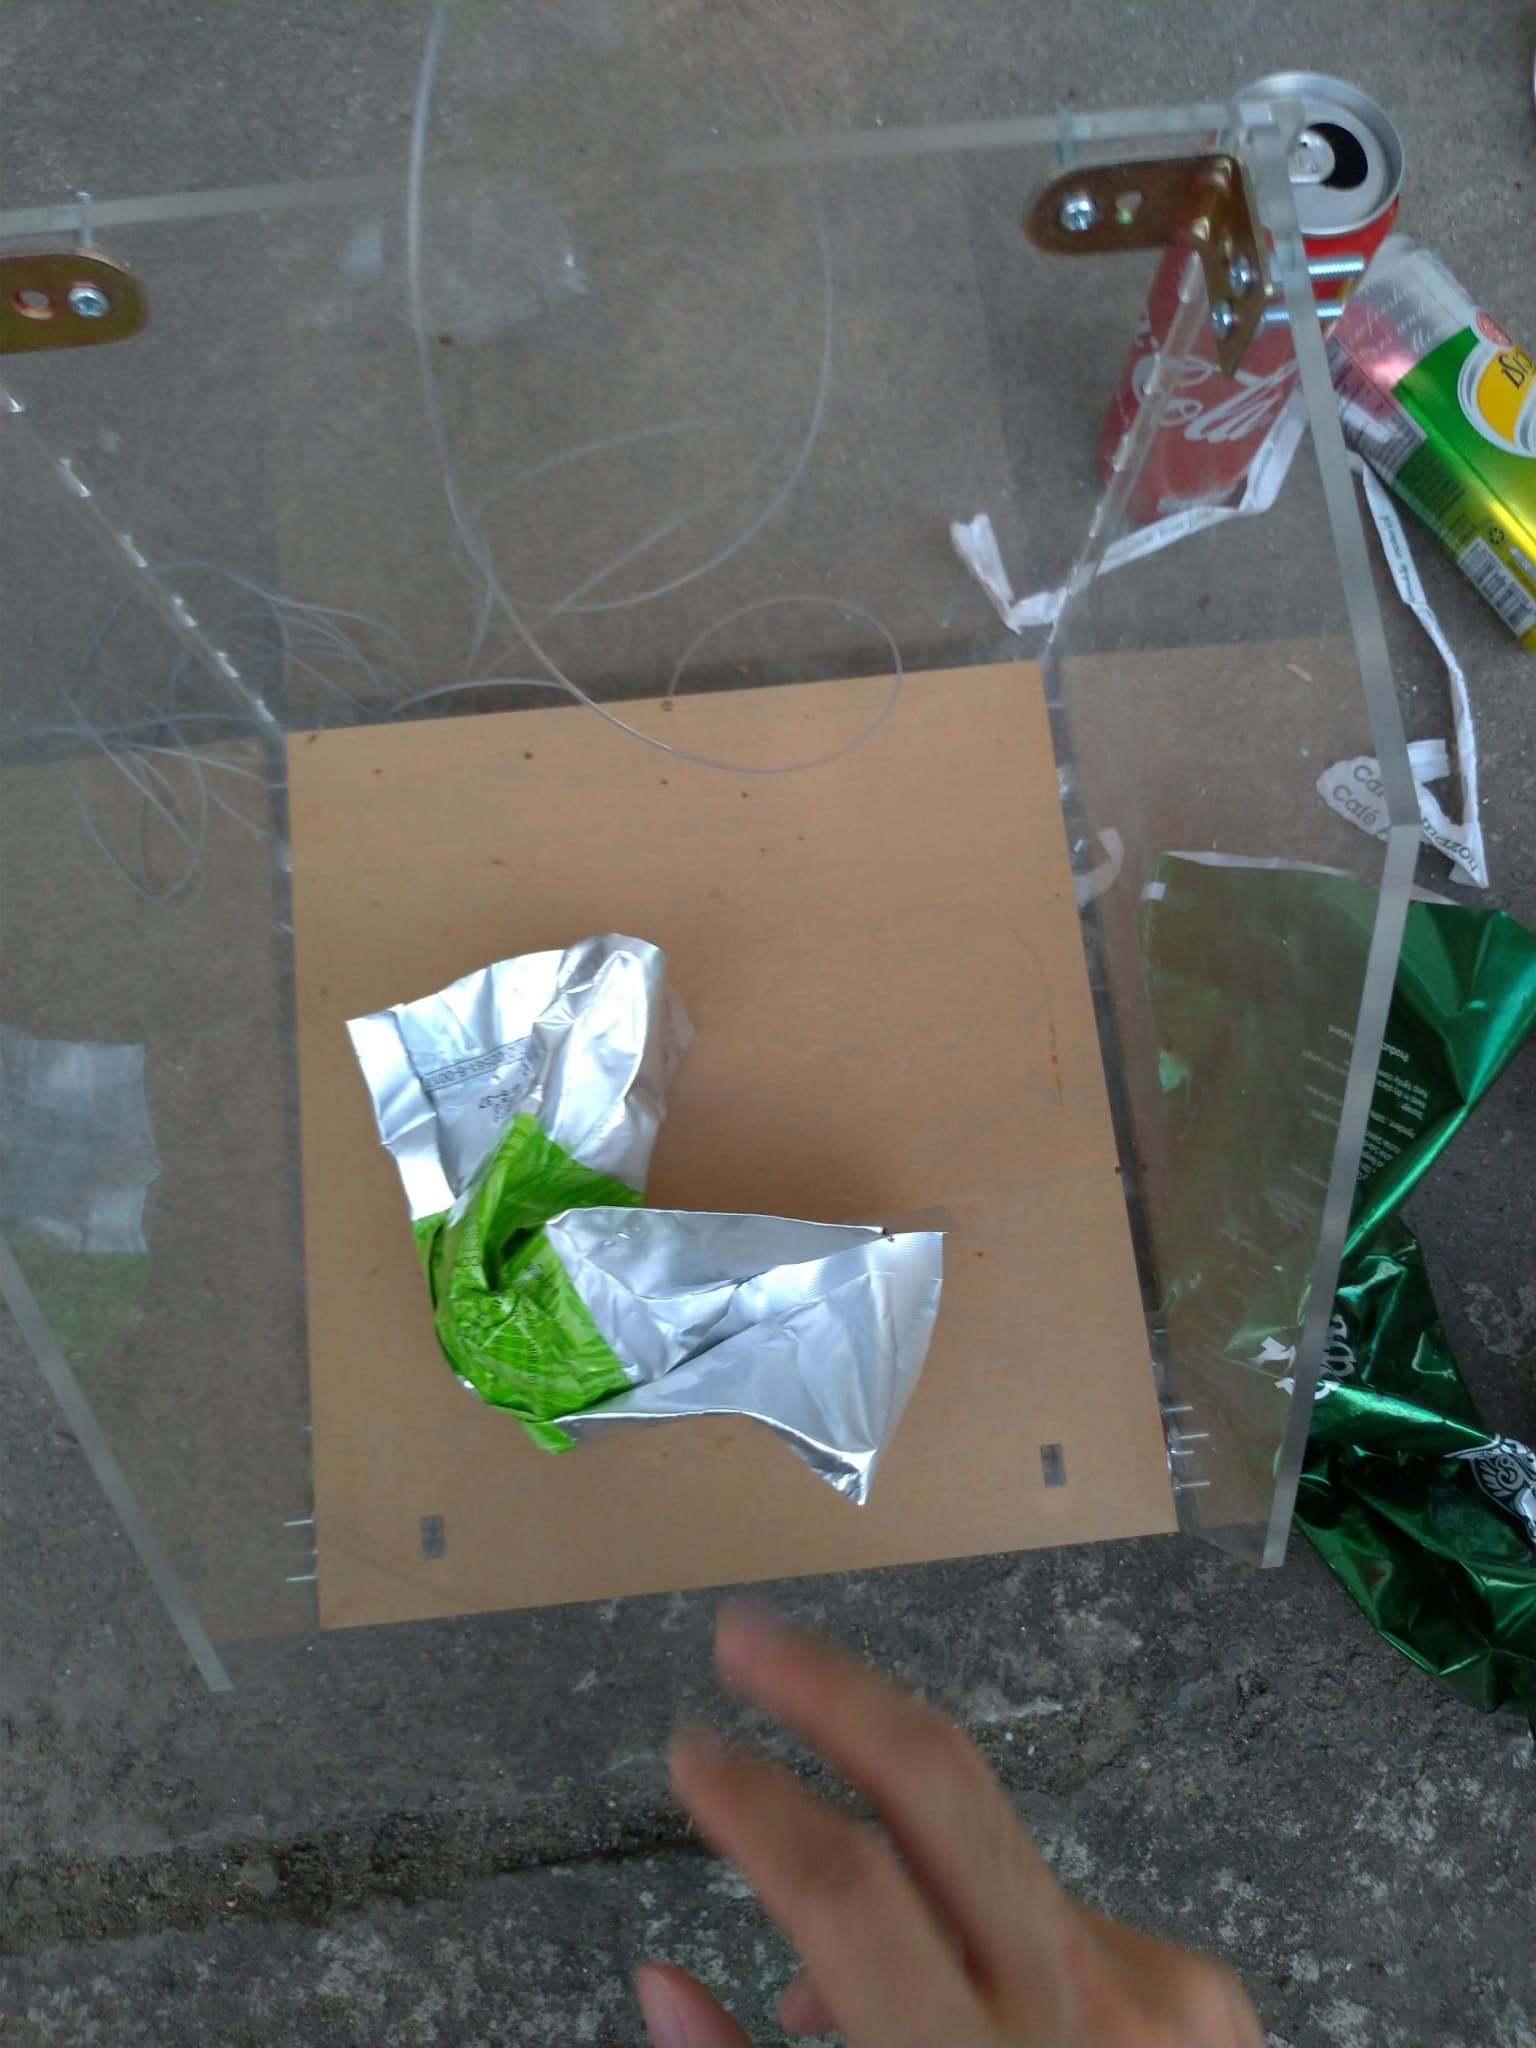AlCan: (1096, 71, 1405, 516), (1312, 242, 1536, 640)
Others: (1137, 848, 1536, 1708), (353, 932, 945, 1503), (1309, 452, 1504, 887), (958, 400, 1317, 626)
